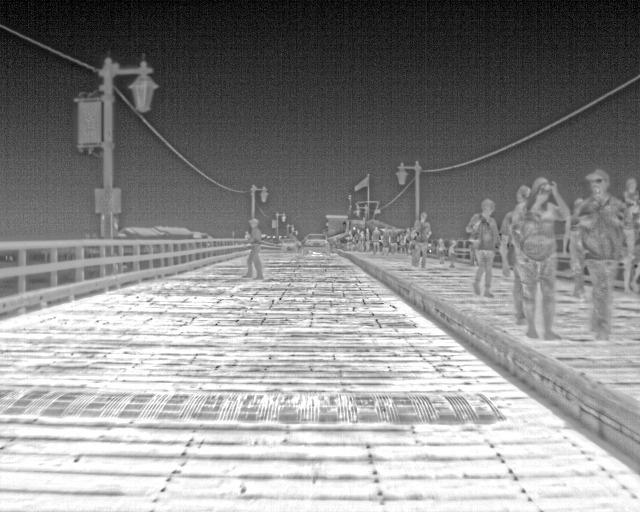bicycle: (301, 235, 329, 253), (278, 235, 301, 253)
empty: (513, 175, 573, 336), (575, 168, 626, 336), (467, 197, 502, 299), (497, 185, 532, 277), (620, 200, 639, 294), (563, 230, 586, 291), (242, 217, 264, 280), (410, 211, 434, 266), (620, 179, 638, 208), (446, 237, 461, 269), (370, 225, 383, 256), (436, 236, 449, 263), (380, 229, 392, 257), (362, 225, 374, 253)
